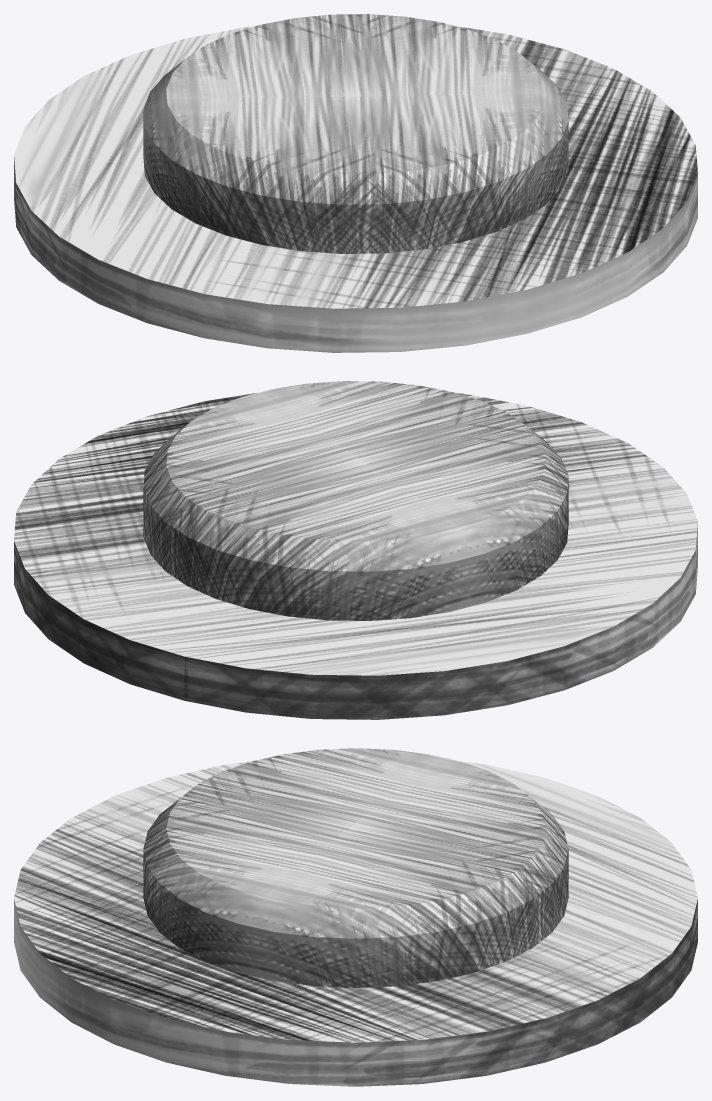
The model's file is Button2.fbx.
The picture shows the model from 3 angles, top to bottom: view 1: azimuth 30°, elevation 25°; view 2: azimuth 150°, elevation 25°; view 3: azimuth 270°, elevation 25°; orthographic projection.
Parts seen in each view (by area): view 1: Button, Button.001; view 2: Button, Button.001; view 3: Button, Button.001.
Boxes of the visible parts, bbox=[...] form: Button: bbox=[14, 26, 697, 352]; Button.001: bbox=[143, 14, 568, 253]; Button: bbox=[14, 393, 697, 719]; Button.001: bbox=[143, 381, 568, 620]; Button: bbox=[14, 761, 697, 1086]; Button.001: bbox=[143, 748, 568, 987].
Size of the model in its own units: 2 by 0.3677 by 2.
